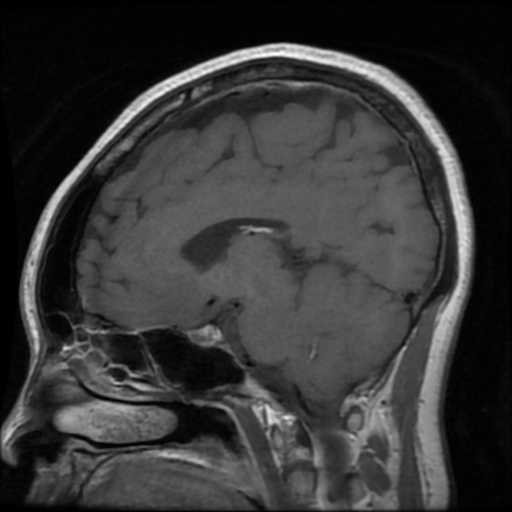pituitary: (188, 325, 222, 347)
